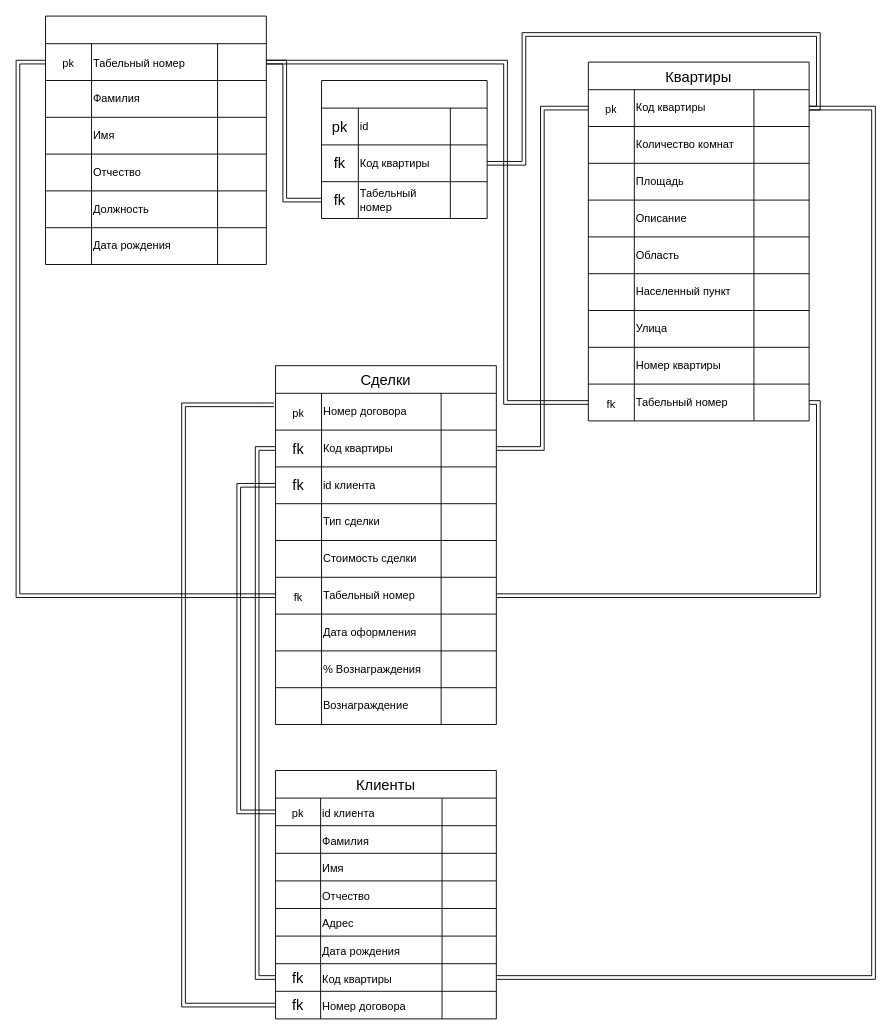
Some shapes in this 891 by 1035 pixel diagram are drawn without their labels. Each missing label, with the box of its shape:
Риелторы: (45, 15, 266, 264)
Риелторы_Квартиры: (321, 80, 487, 218)
